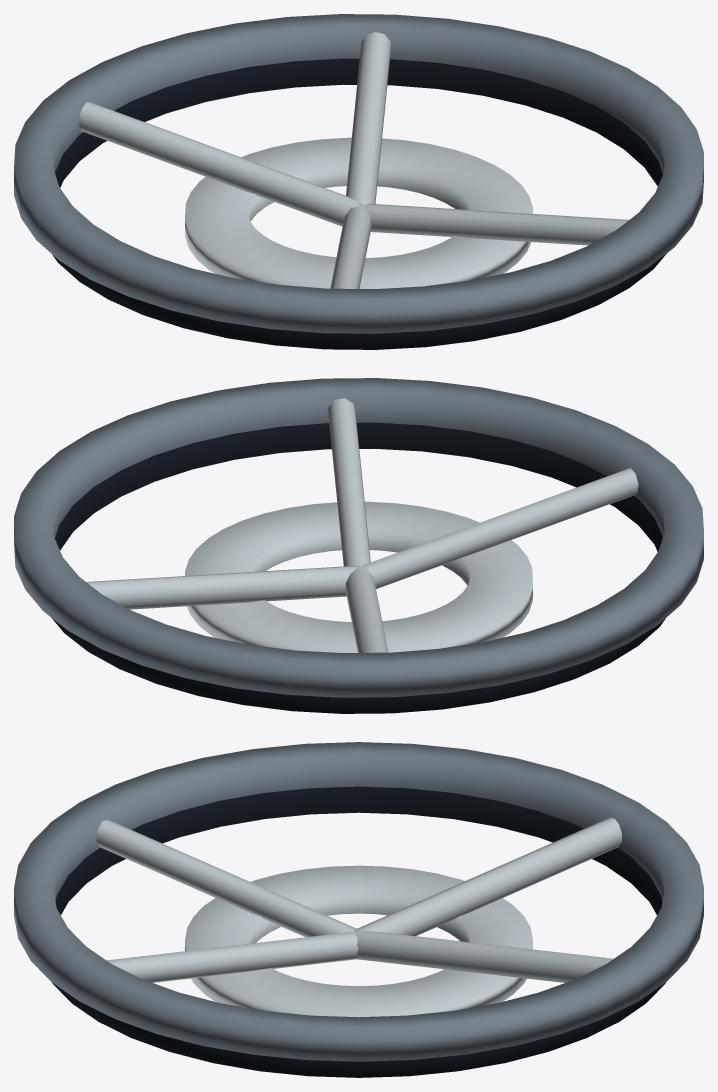
File: atlas_v_core_engine_frame.glb
3 views of the same model, one above another, from view 1: azimuth 30°, elevation 25°; view 2: azimuth 150°, elevation 25°; view 3: azimuth 270°, elevation 25° (orthographic).
Visible parts, largest first — view 1: atlas_v_core_engine_frame.mesh_Machined_steel, atlas_v_core_engine_frame.mesh_Satin_aluminum, atlas_v_core_engine_frame.mesh_Shadowed_interior; view 2: atlas_v_core_engine_frame.mesh_Machined_steel, atlas_v_core_engine_frame.mesh_Satin_aluminum, atlas_v_core_engine_frame.mesh_Shadowed_interior; view 3: atlas_v_core_engine_frame.mesh_Machined_steel, atlas_v_core_engine_frame.mesh_Satin_aluminum, atlas_v_core_engine_frame.mesh_Shadowed_interior.
Boxes of the visible parts, x1,y1,x2,y2 form: atlas_v_core_engine_frame.mesh_Machined_steel: (14, 14, 703, 333); atlas_v_core_engine_frame.mesh_Satin_aluminum: (79, 32, 628, 288); atlas_v_core_engine_frame.mesh_Shadowed_interior: (52, 58, 666, 349); atlas_v_core_engine_frame.mesh_Machined_steel: (14, 378, 703, 697); atlas_v_core_engine_frame.mesh_Satin_aluminum: (86, 398, 638, 652); atlas_v_core_engine_frame.mesh_Shadowed_interior: (51, 422, 665, 713); atlas_v_core_engine_frame.mesh_Machined_steel: (14, 742, 703, 1061); atlas_v_core_engine_frame.mesh_Satin_aluminum: (96, 817, 621, 1017); atlas_v_core_engine_frame.mesh_Shadowed_interior: (52, 786, 665, 1077).
Bounding box in the file's own units: 3.78 × 0.44 × 3.78.
